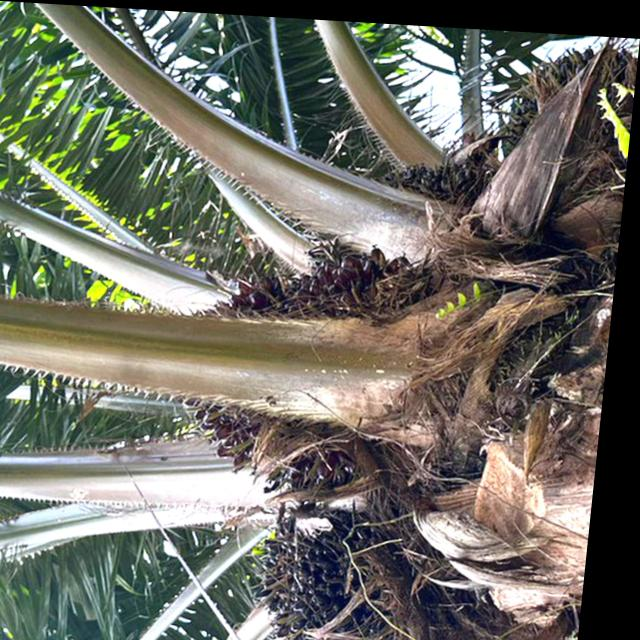ripe: (160, 221, 443, 506)
